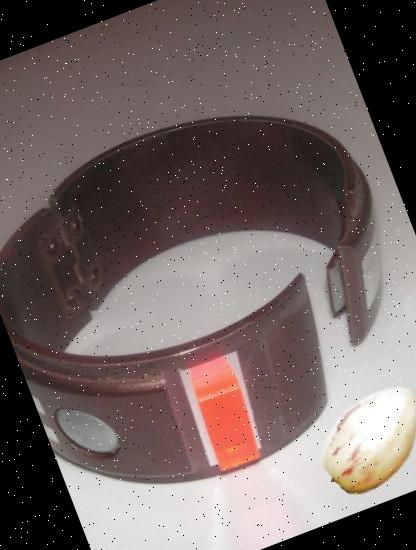Pepino: (295, 358, 416, 516)
